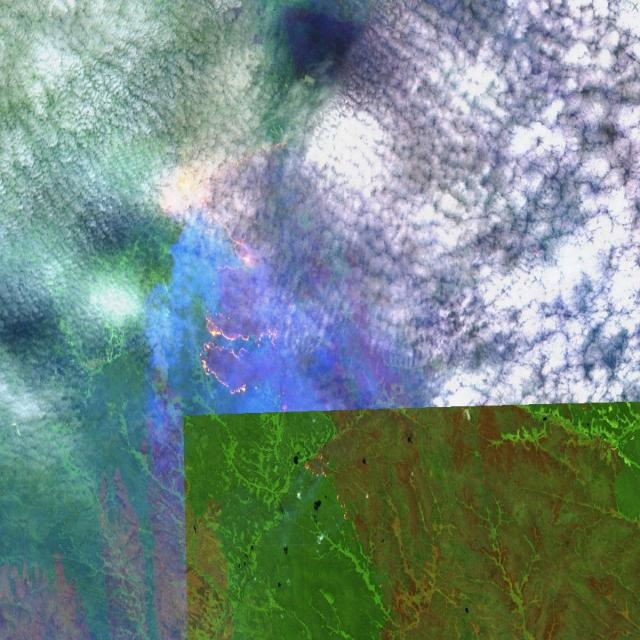fire: (164, 132, 299, 399)
